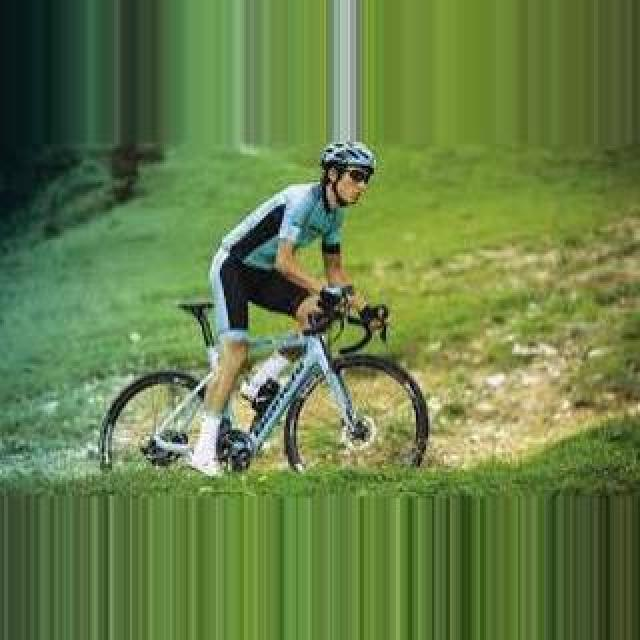MC-Bike: (174, 140, 380, 476)
Person: (96, 285, 430, 483)
